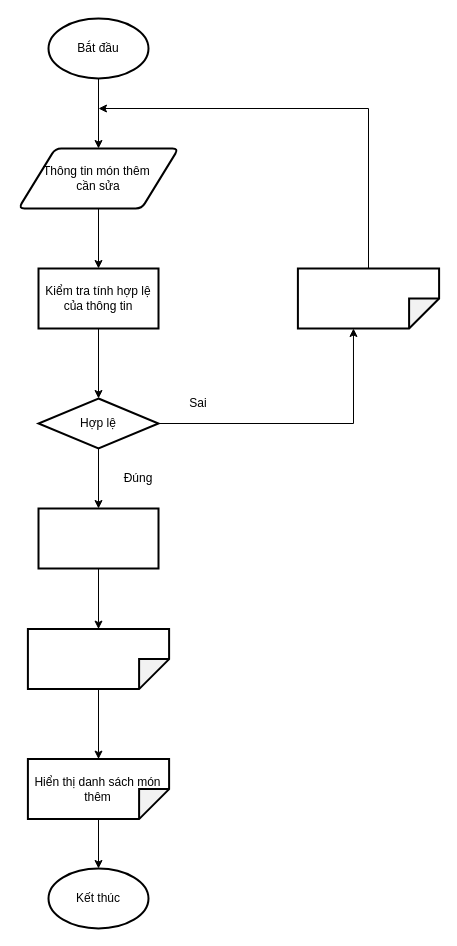
Image size: 457x946. Some labels were removed from this diagram. The shapes that lost their labels are listed below. From the top down, each one's box as (x1, y1, x2, y2) in pixels, then its label:
(296, 267, 440, 329): Thông báo lỗi
(37, 507, 159, 569): Cập nhật dữ liệu vào database
(26, 628, 170, 690): Thông báo sửa thành công
